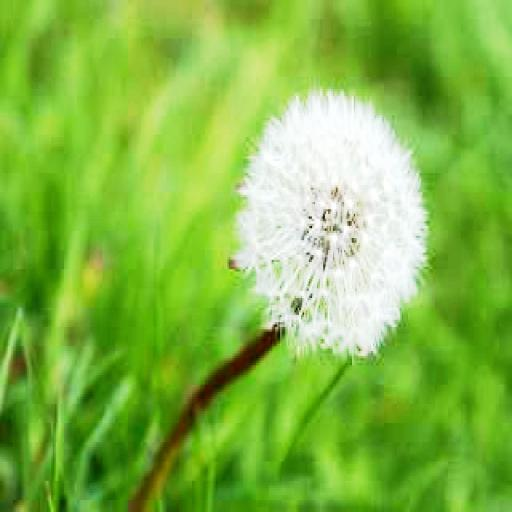dandelion: (232, 89, 426, 365)
